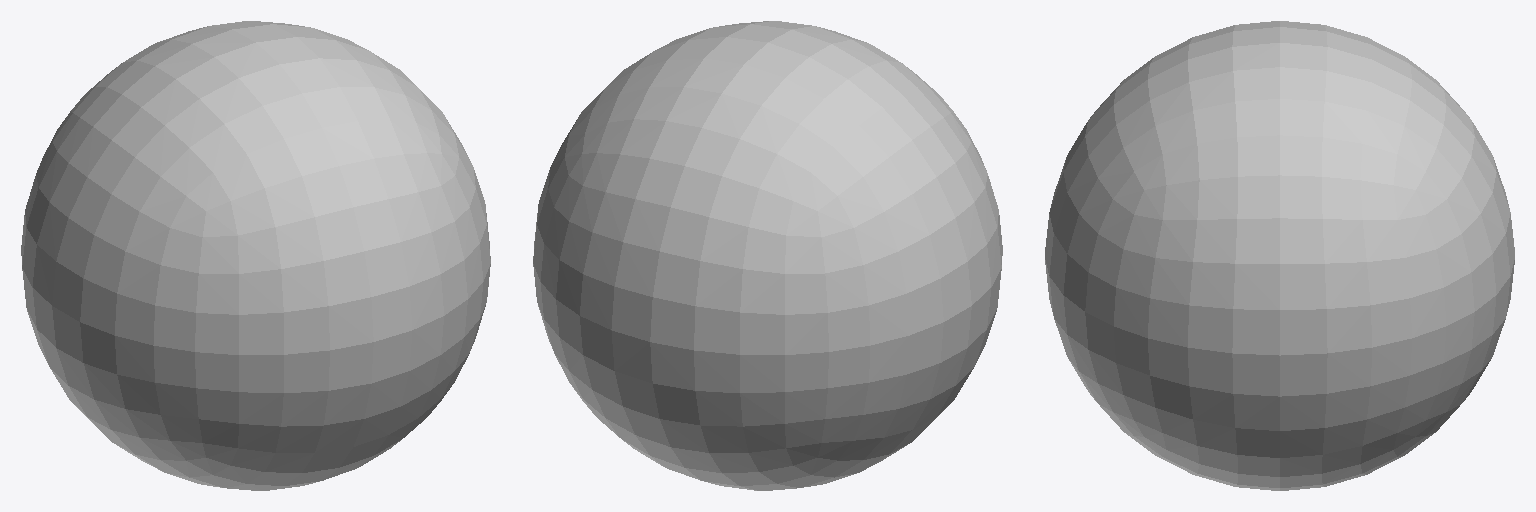
File: PHOTOSPHEREinFacing.obj
3 renders of one model, left to right at view 1: azimuth 30°, elevation 25°; view 2: azimuth 150°, elevation 25°; view 3: azimuth 270°, elevation 25°, orthographic.
Parts seen in each view (by area): view 1: PolySphere_Cube.004; view 2: PolySphere_Cube.004; view 3: PolySphere_Cube.004.
Part boxes in pixels (left/top/right/bottom): PolySphere_Cube.004: left=21, top=21, right=490, bottom=490; PolySphere_Cube.004: left=533, top=21, right=1002, bottom=490; PolySphere_Cube.004: left=1045, top=21, right=1514, bottom=490.
Size of the model in its own units: 2 by 2 by 2.